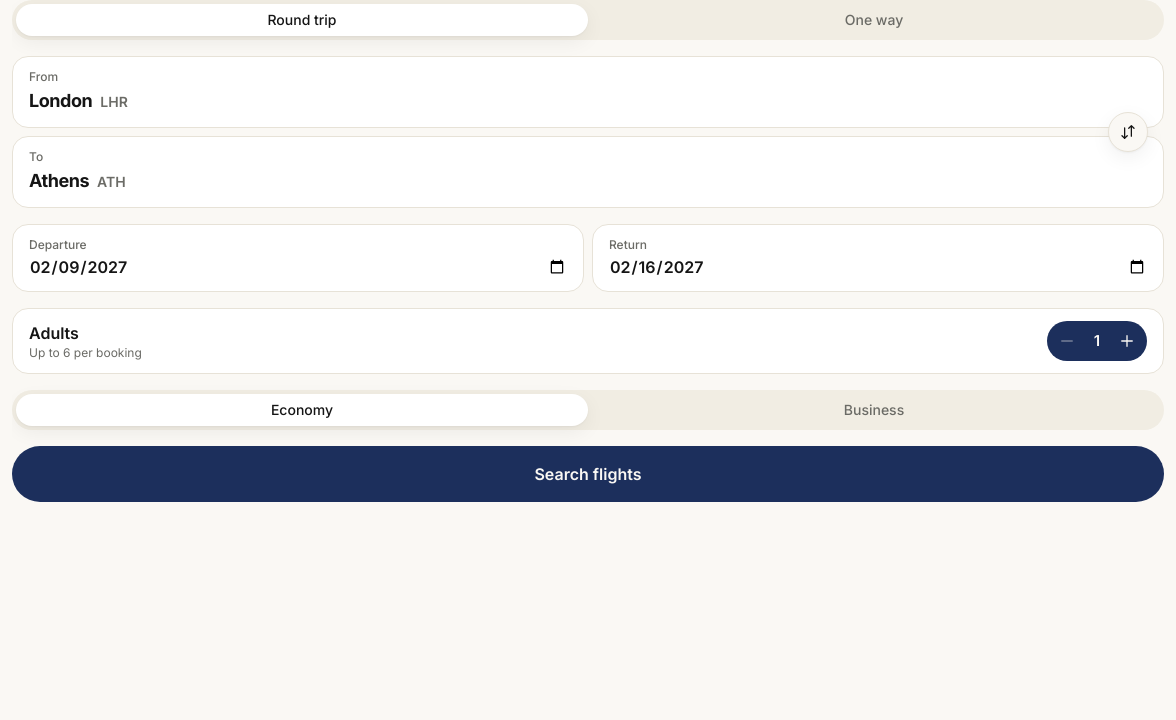
Test: SearchForm › adults stepper stays between 1 and 6
Expected: the button named "Remove adult" is disabled, left=1047, top=321, right=1087, bottom=361
Click the button named "Add adult" at (1127, 341), box left=1107, top=321, right=1147, bottom=361
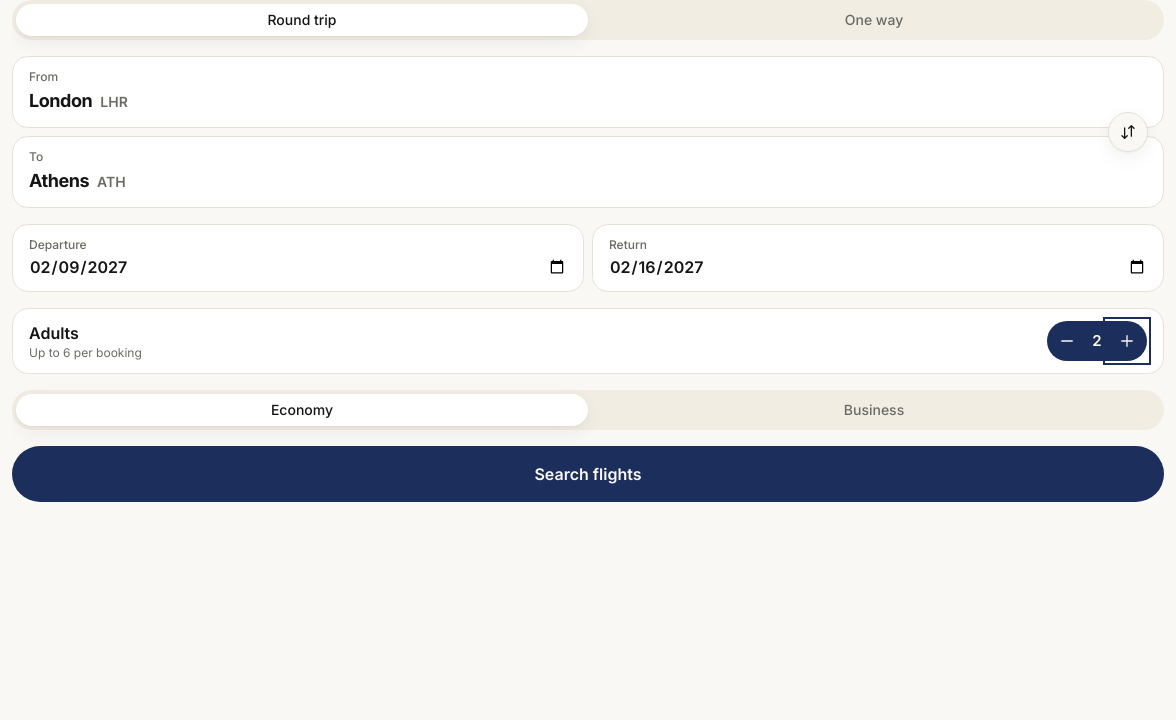
Click the button named "Add adult" at (1127, 341), box left=1107, top=321, right=1147, bottom=361
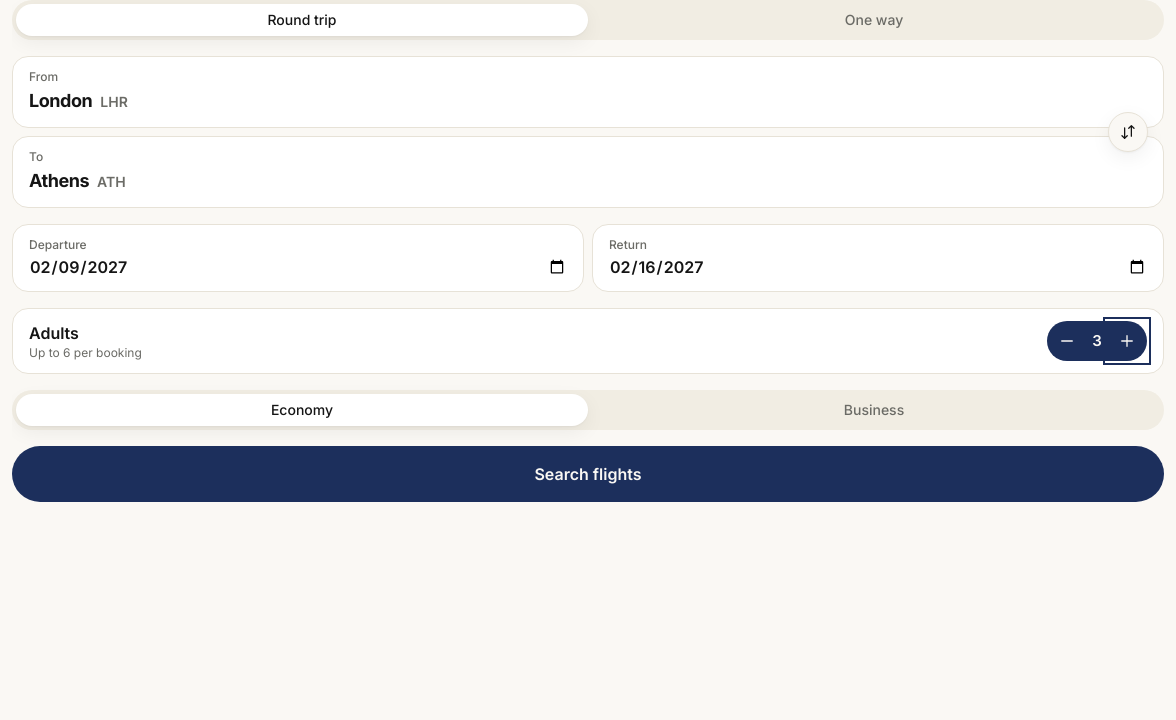
Click the button named "Add adult" at (1127, 341), box left=1107, top=321, right=1147, bottom=361
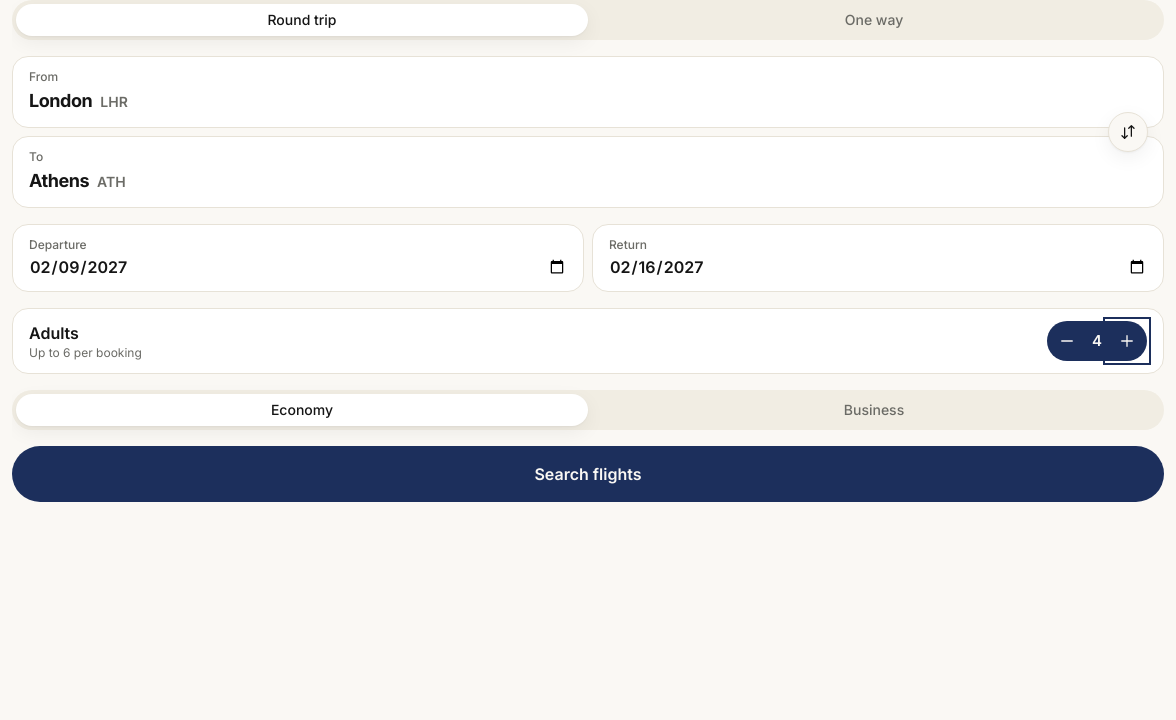
Click the button named "Add adult" at (1127, 341), box left=1107, top=321, right=1147, bottom=361
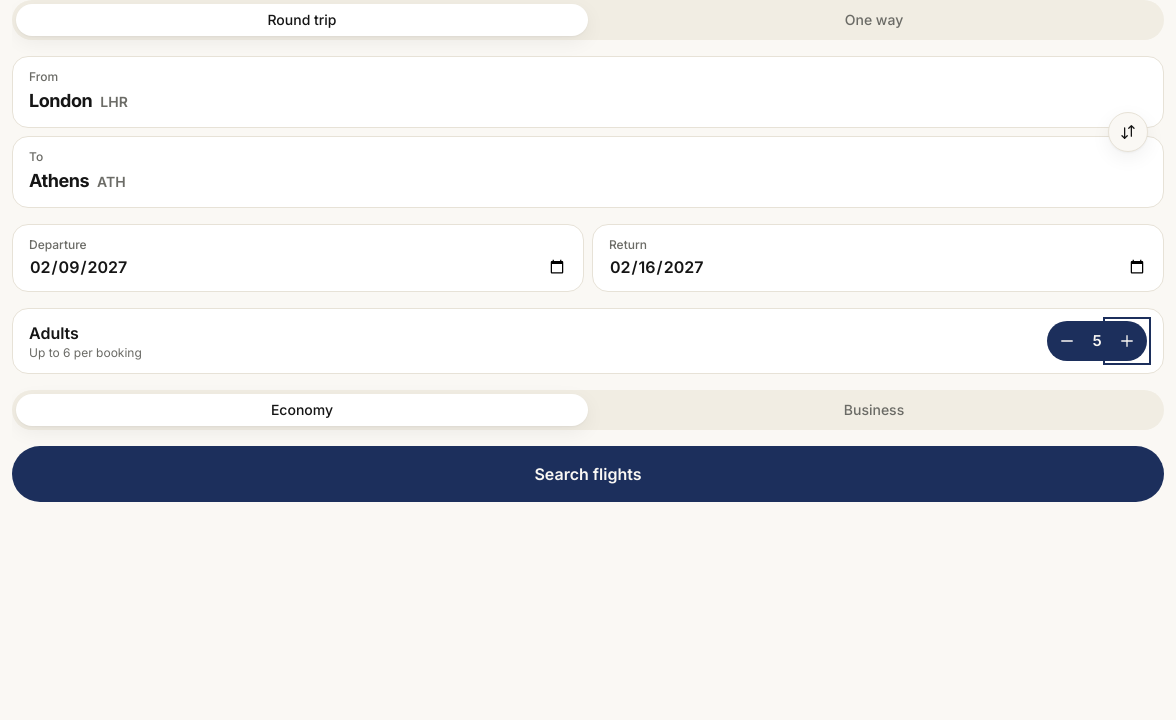
Click the button named "Add adult" at (1127, 341), box left=1107, top=321, right=1147, bottom=361
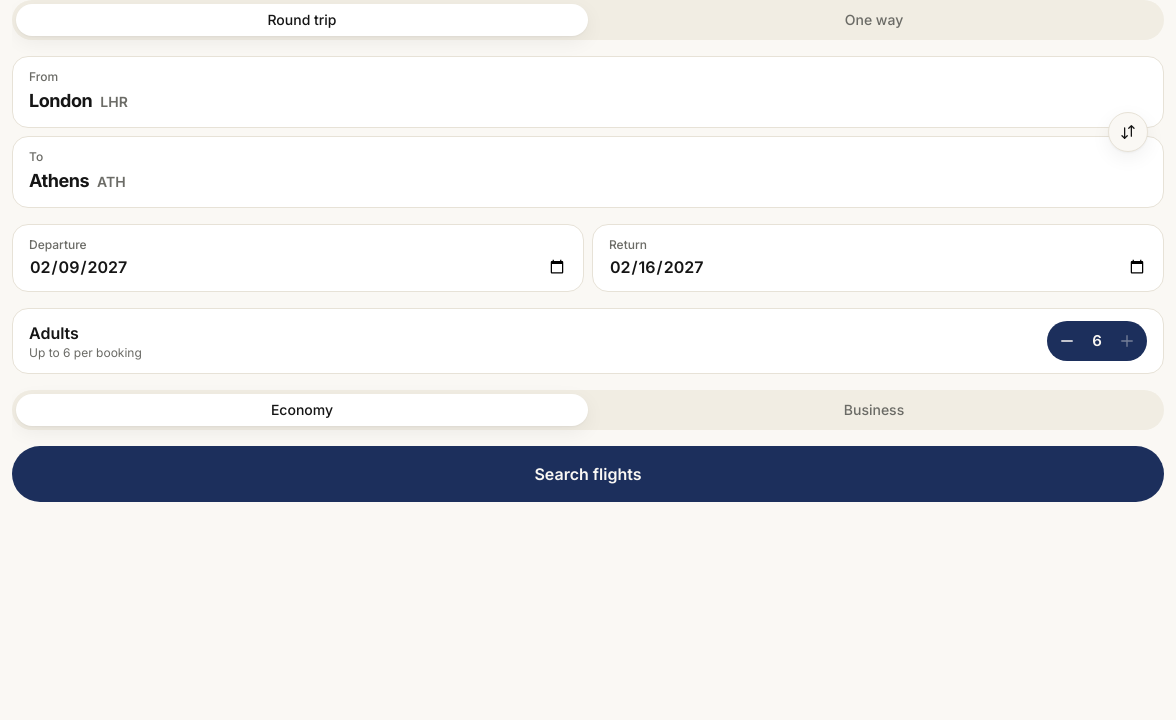
Expected: the text "6" is shown, left=1092, top=331, right=1102, bottom=350
Expected: the button named "Add adult" is disabled, left=1107, top=321, right=1147, bottom=361
